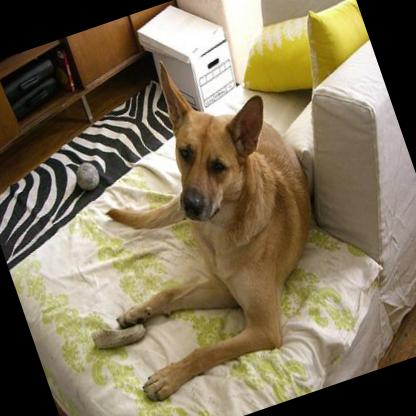malinois: (36, 22, 364, 412)
